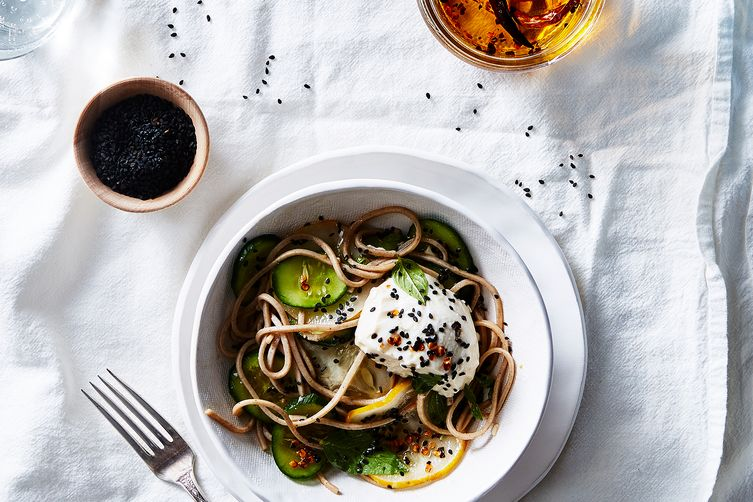Soba: (231, 209, 525, 490)
